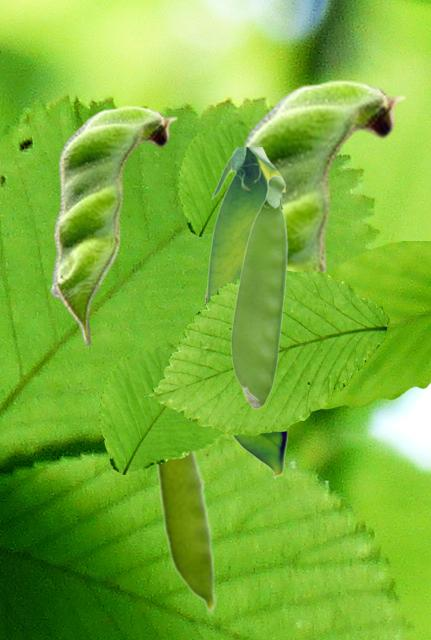pea: (239, 79, 406, 271), (49, 105, 177, 346), (206, 147, 287, 477), (230, 174, 287, 408), (153, 452, 217, 615)
